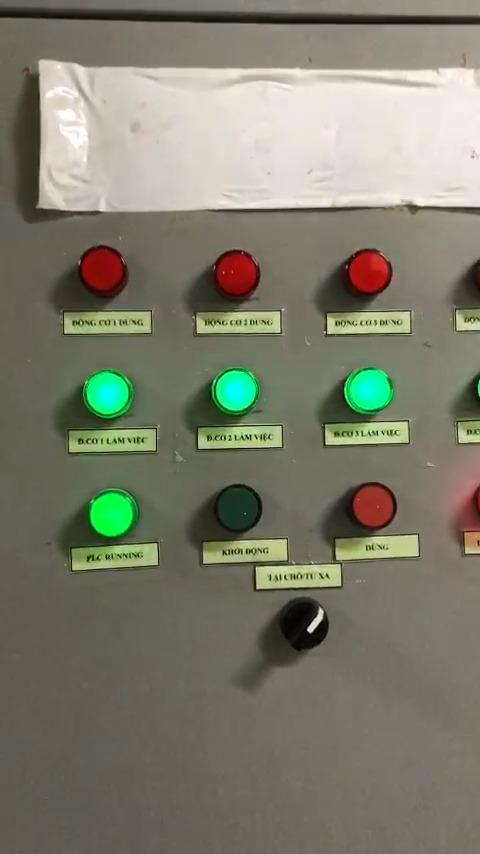led: (70, 237, 132, 300), (75, 361, 138, 423), (204, 246, 265, 308), (335, 480, 399, 538), (337, 361, 396, 421), (80, 486, 139, 544), (202, 364, 260, 422), (208, 481, 266, 539), (338, 244, 396, 301)
twist: (273, 594, 333, 656)
